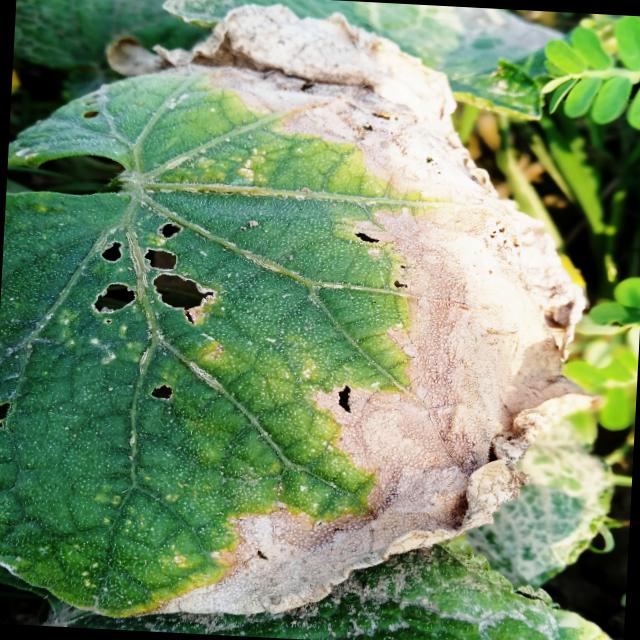Gummy-Stem-Blight: (104, 0, 604, 618)
